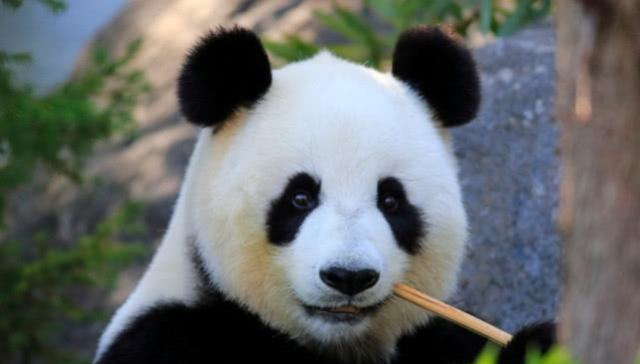panda: (108, 21, 551, 363)
